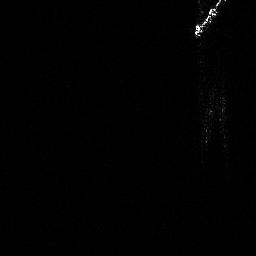ship: (190, 1, 228, 40)
